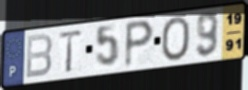5: (95, 22, 122, 71)
9: (195, 11, 219, 60)
B: (24, 32, 54, 81)
O: (160, 15, 192, 63)
P: (123, 18, 157, 70)
T: (57, 28, 85, 75)
